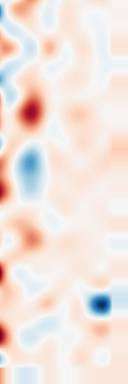filament: (12, 88, 53, 137)
